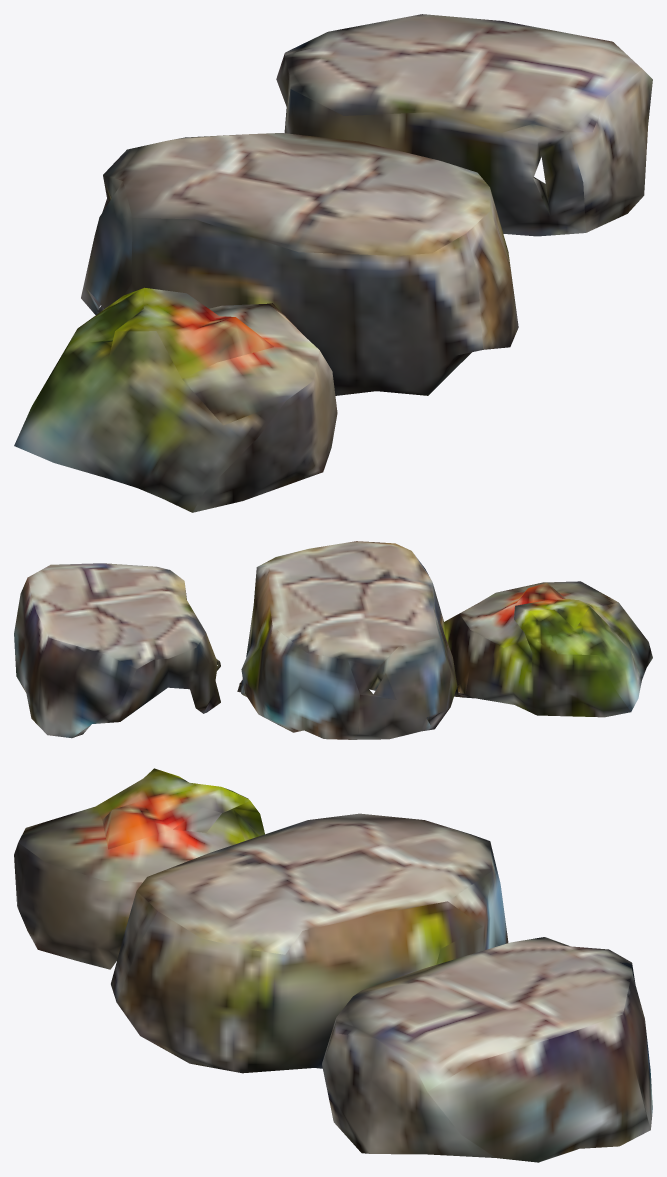
The model's file is SummerDecor_FirstRoom_SteppingStones.fbx.
3 views of the same model, one above another, from view 1: azimuth 30°, elevation 25°; view 2: azimuth 150°, elevation 25°; view 3: azimuth 270°, elevation 25° (orthographic). The views are drawn at different scales.
Visible parts, largest first — view 1: SummerDecor_FirstRoom_SteppingStones_Mesh; view 2: SummerDecor_FirstRoom_SteppingStones_Mesh; view 3: SummerDecor_FirstRoom_SteppingStones_Mesh.
Boxes of the visible parts, x1,y1,x2,y2 form: SummerDecor_FirstRoom_SteppingStones_Mesh: (14, 14, 652, 512); SummerDecor_FirstRoom_SteppingStones_Mesh: (14, 541, 652, 739); SummerDecor_FirstRoom_SteppingStones_Mesh: (14, 768, 652, 1162).
Bounding box in the file's own units: 6 × 1.16 × 4.65.
1 material, 1 textured.
